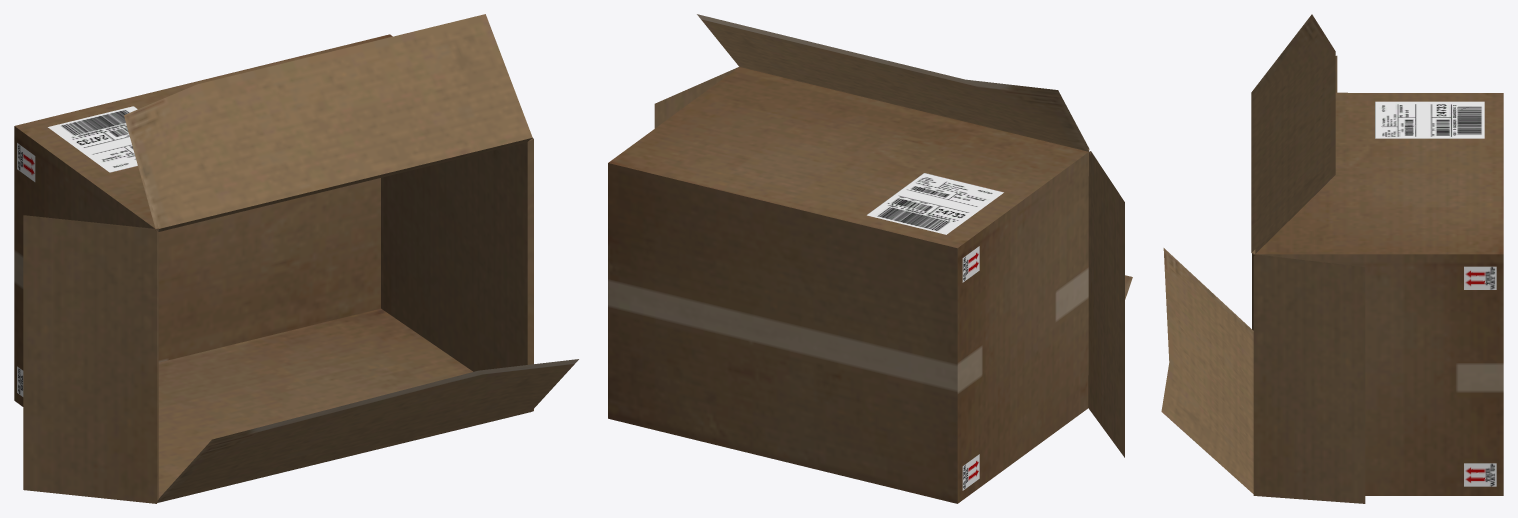
File: p_glo_cardboardbox_3_LOD1.obj
3 views of the same model, side by side, from view 1: azimuth 30°, elevation 25°; view 2: azimuth 150°, elevation 25°; view 3: azimuth 270°, elevation 25° (orthographic). The views are drawn at different scales.
Visible parts, largest first — view 1: mtl_p_glo_cardboardbox, mtl_p_glo_cardboardbox_decal; view 2: mtl_p_glo_cardboardbox, mtl_p_glo_cardboardbox_decal; view 3: mtl_p_glo_cardboardbox, mtl_p_glo_cardboardbox_decal.
Boxes of the visible parts, left/top/right/bottom form: mtl_p_glo_cardboardbox: left=14, top=14, right=578, bottom=503; mtl_p_glo_cardboardbox_decal: left=17, top=106, right=137, bottom=396; mtl_p_glo_cardboardbox: left=608, top=14, right=1132, bottom=503; mtl_p_glo_cardboardbox_decal: left=867, top=173, right=1003, bottom=490; mtl_p_glo_cardboardbox: left=1161, top=14, right=1503, bottom=503; mtl_p_glo_cardboardbox_decal: left=1375, top=101, right=1496, bottom=486.
Bounding box in the file's own units: 96.44 × 68.7 × 66.31.
